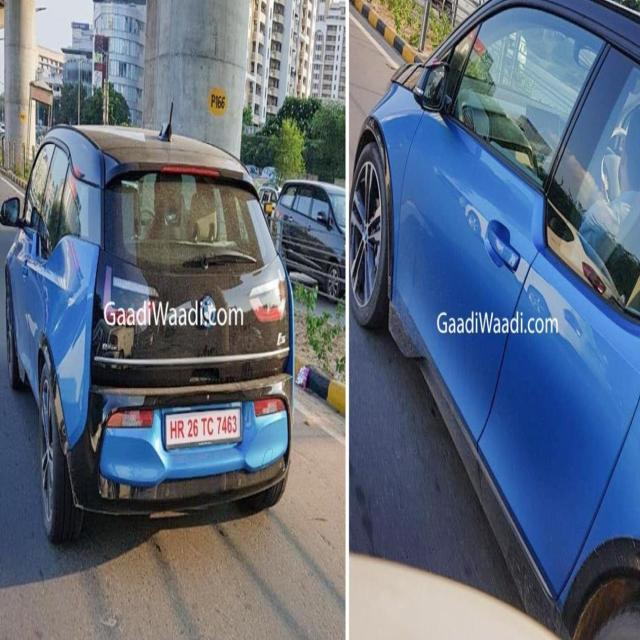plate: (161, 404, 243, 449)
